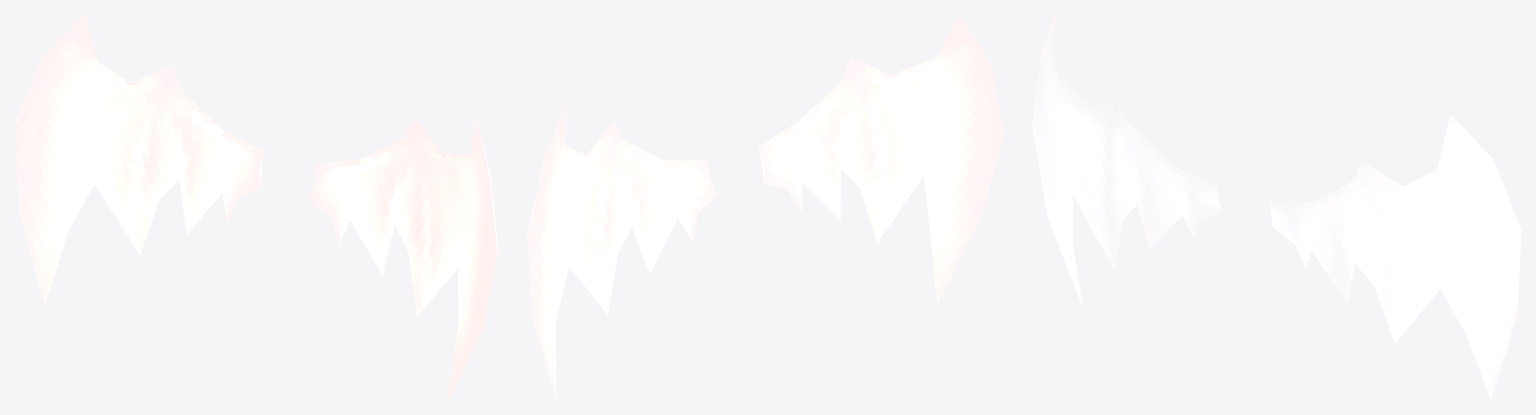
The model's file is sfx_spirit_order_vampiretrunk_batarrow01.glb.
3 renders of one model, left to right at view 1: azimuth 90°, elevation 25°; view 2: azimuth 150°, elevation 25°; view 3: azimuth 270°, elevation 25°, orthographic. The views are drawn at different scales.
Parts seen in each view (by area): view 1: sfx_spirit_order_vampiretrunk_batarrow01; view 2: sfx_spirit_order_vampiretrunk_batarrow01; view 3: sfx_spirit_order_vampiretrunk_batarrow01.
Part boxes in pixels (bbox=[...]): sfx_spirit_order_vampiretrunk_batarrow01: bbox=[14, 14, 498, 399]; sfx_spirit_order_vampiretrunk_batarrow01: bbox=[527, 14, 1003, 400]; sfx_spirit_order_vampiretrunk_batarrow01: bbox=[1032, 14, 1521, 400].
Size of the model in its own units: 0.1301 by 0.1437 by 0.2169.
1 material, 1 textured.
